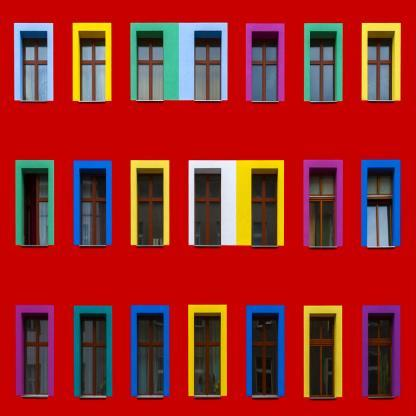Building Outline: (0, 0, 416, 416)
Facade: (0, 0, 416, 415)
Floor: (0, 131, 416, 280), (1, 288, 416, 416), (0, 0, 416, 123)
Floor Slab: (0, 280, 416, 288), (0, 123, 416, 131)
Window: (137, 318, 163, 396), (195, 318, 221, 396), (22, 319, 48, 396), (80, 319, 106, 396), (310, 318, 335, 397), (252, 318, 277, 396), (80, 173, 106, 245), (138, 173, 164, 245), (195, 173, 221, 245), (369, 321, 393, 398), (368, 174, 393, 247), (310, 174, 335, 247), (22, 173, 47, 245), (252, 174, 277, 246), (194, 38, 222, 101), (80, 38, 106, 101), (138, 38, 164, 101), (252, 38, 278, 101), (368, 38, 393, 101), (22, 38, 47, 101), (310, 38, 335, 101)
Window Hole: (310, 313, 337, 397), (21, 313, 48, 396), (252, 313, 279, 396), (194, 313, 221, 396), (80, 313, 107, 396), (369, 313, 395, 398), (367, 168, 395, 246), (309, 168, 337, 246), (137, 313, 163, 396), (137, 168, 164, 246), (22, 168, 49, 245), (251, 168, 278, 245), (195, 168, 222, 245), (79, 168, 106, 245), (78, 31, 106, 100), (194, 31, 222, 100), (20, 31, 47, 100), (137, 31, 164, 100), (252, 31, 279, 100), (310, 31, 337, 100), (368, 31, 395, 100)
